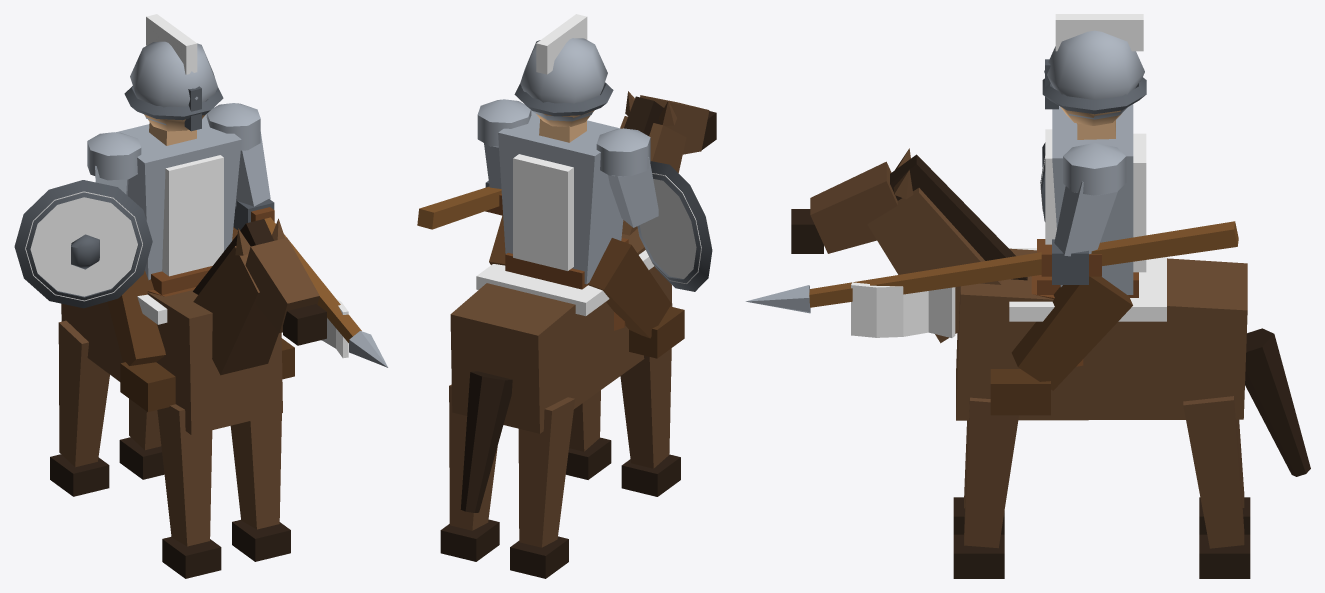
File: Cavalry_FirstAge.glb
The picture shows the model from 3 angles, left to right: view 1: azimuth 30°, elevation 25°; view 2: azimuth 150°, elevation 25°; view 3: azimuth 270°, elevation 25°; orthographic projection. The views are drawn at different scales.
Parts seen in each view (by area): view 1: Horse, Steel, LegB_Horse, Team, Left_Team, LegA_Horse, Left_Metal, Dark, LegB_Mane, LegA_Mane, Mane, Right_Steel (+6 smaller); view 2: Horse, Steel, Team, LegB_Horse, LegA_Horse, Dark, Mane, Left_Team, LegA_Mane, LegB_Mane, Left_Metal, Left_Steel (+5 smaller); view 3: Horse, Steel, Dark, Mane, Team, Right_Wood, LegA_Horse, LegB_Horse, Right_Team, Right_Steel, LegA_Mane, LegB_Mane (+4 smaller).
Part boxes in pixels (x1,y1,x2,y2): Horse: (61, 218, 319, 435); Steel: (87, 41, 260, 280); LegB_Horse: (58, 320, 281, 529); Team: (137, 14, 223, 324); Left_Team: (25, 191, 142, 301); LegA_Horse: (129, 398, 212, 546); Left_Metal: (14, 180, 152, 308); Dark: (107, 227, 294, 411); LegB_Mane: (50, 454, 290, 561); LegA_Mane: (119, 437, 221, 578); Mane: (193, 219, 326, 345); Right_Steel: (235, 132, 388, 367); Horse: (450, 91, 709, 433); Steel: (477, 38, 650, 284); Team: (476, 14, 653, 316); LegB_Horse: (518, 390, 600, 547); LegA_Horse: (449, 348, 671, 530); Dark: (489, 215, 684, 358); Mane: (460, 96, 716, 512); Left_Team: (637, 173, 711, 283); LegA_Mane: (440, 454, 680, 561); LegB_Mane: (510, 437, 611, 578); Left_Metal: (637, 161, 712, 291); Left_Steel: (608, 157, 658, 227); Horse: (810, 148, 1247, 420); Steel: (1044, 30, 1144, 294); Dark: (990, 276, 1132, 415); Mane: (791, 154, 1310, 476); Team: (1009, 14, 1166, 321); Right_Wood: (809, 221, 1238, 307); LegA_Horse: (964, 396, 1244, 548); LegB_Horse: (964, 397, 1244, 548); Right_Team: (851, 282, 955, 337); Right_Steel: (745, 181, 1117, 313); LegA_Mane: (953, 497, 1250, 578); LegB_Mane: (953, 497, 1250, 578).
Size of the model in its own units: 0.6486 by 1.27 by 1.22.
